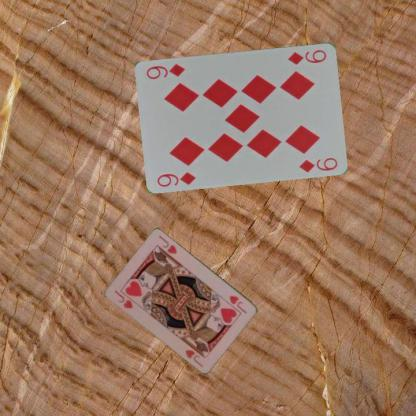9d: (286, 47, 328, 66), (155, 168, 197, 187)
Jh: (227, 293, 249, 315), (112, 288, 134, 310)
